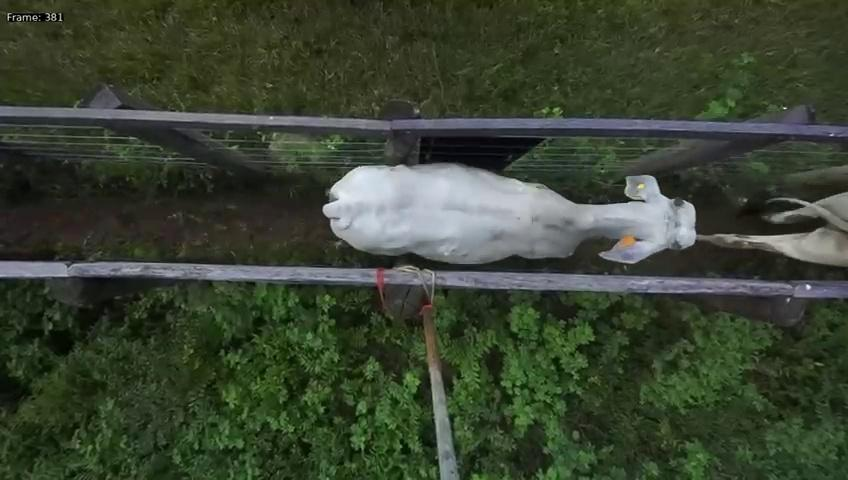cattle: (320, 152, 699, 265)
